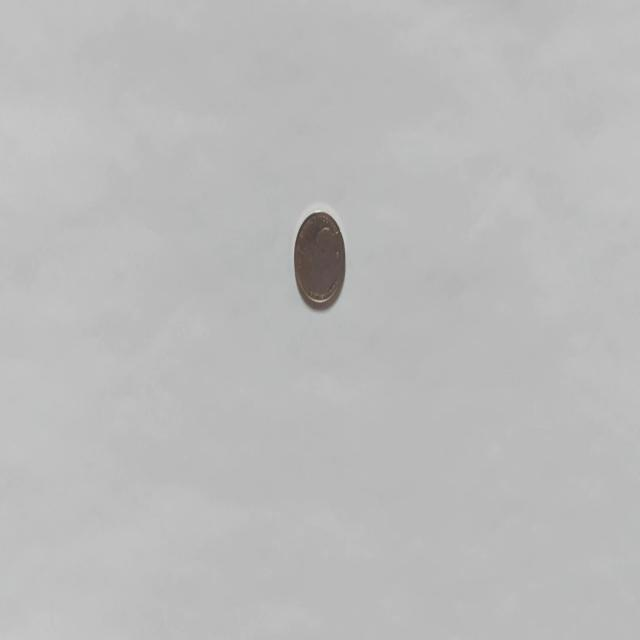seribu rupiah koin: (292, 206, 346, 310)
